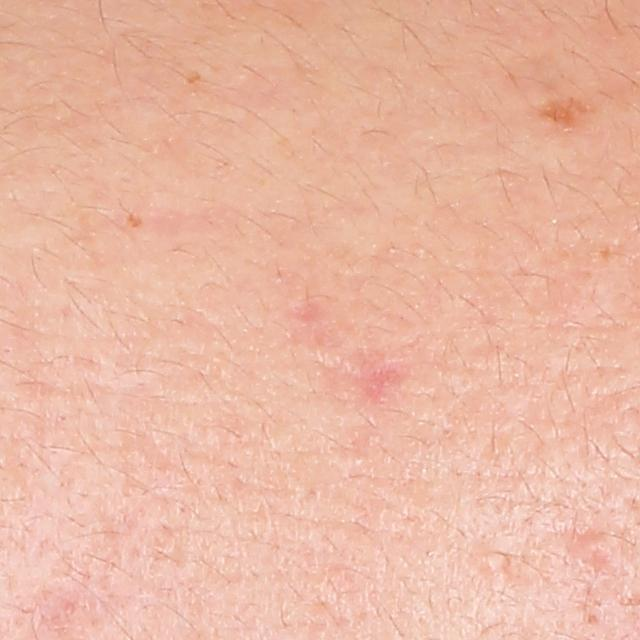comedo: (477, 547, 509, 578)
